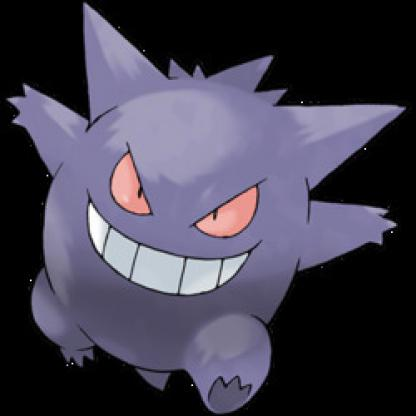Gengar: (21, 18, 397, 415)
